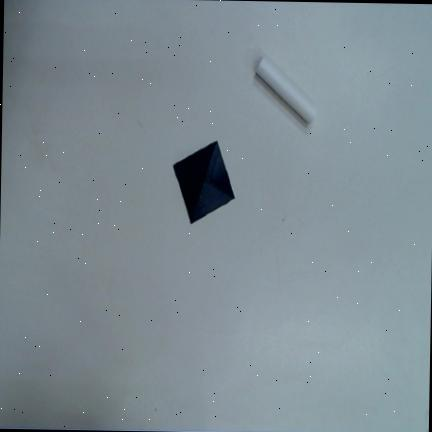Cilindro: (256, 58, 316, 122)
Piramide: (172, 140, 235, 225)
